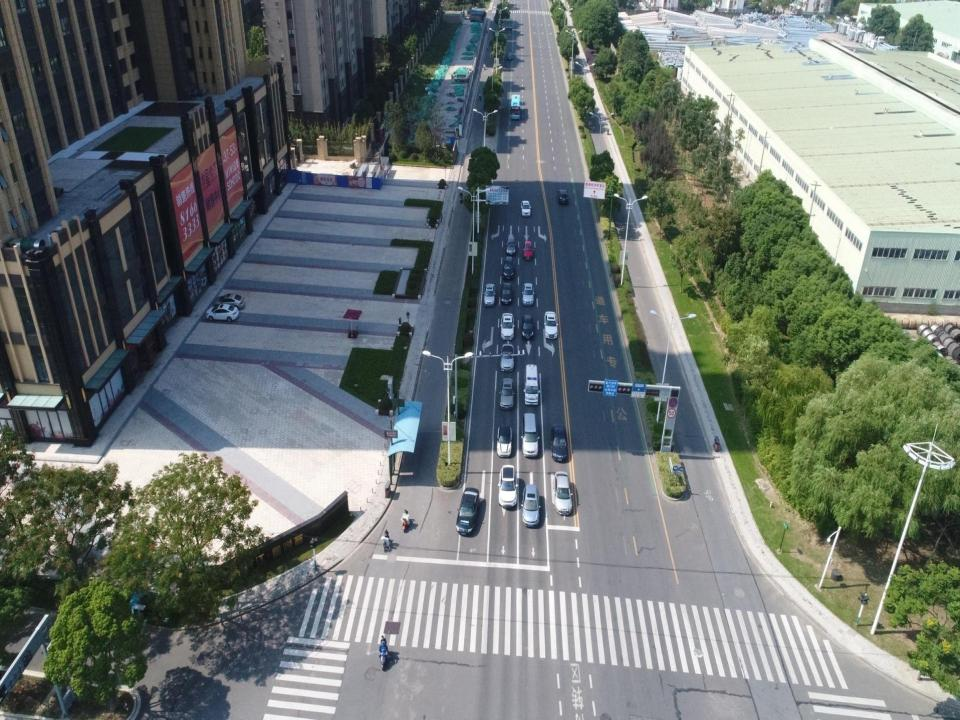bus: (510, 93, 522, 121)
car: (454, 486, 479, 536), (552, 470, 573, 516), (497, 464, 518, 508), (521, 483, 541, 529), (550, 421, 567, 462), (206, 302, 240, 320), (496, 423, 512, 457), (498, 376, 514, 408), (500, 340, 516, 371), (211, 294, 245, 308), (500, 310, 515, 341), (520, 312, 536, 341), (544, 310, 558, 342), (520, 281, 535, 307), (502, 254, 515, 280), (483, 281, 496, 305), (522, 238, 534, 262), (500, 282, 512, 304), (520, 199, 532, 217), (556, 187, 568, 204), (506, 235, 516, 255), (506, 52, 514, 62)
truck: (522, 362, 540, 406)
van: (520, 412, 541, 459)
